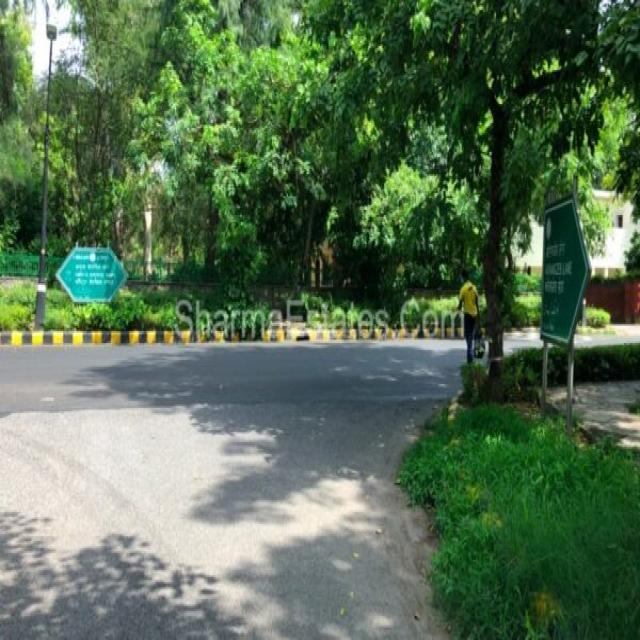Clean road: (0, 307, 517, 639)
